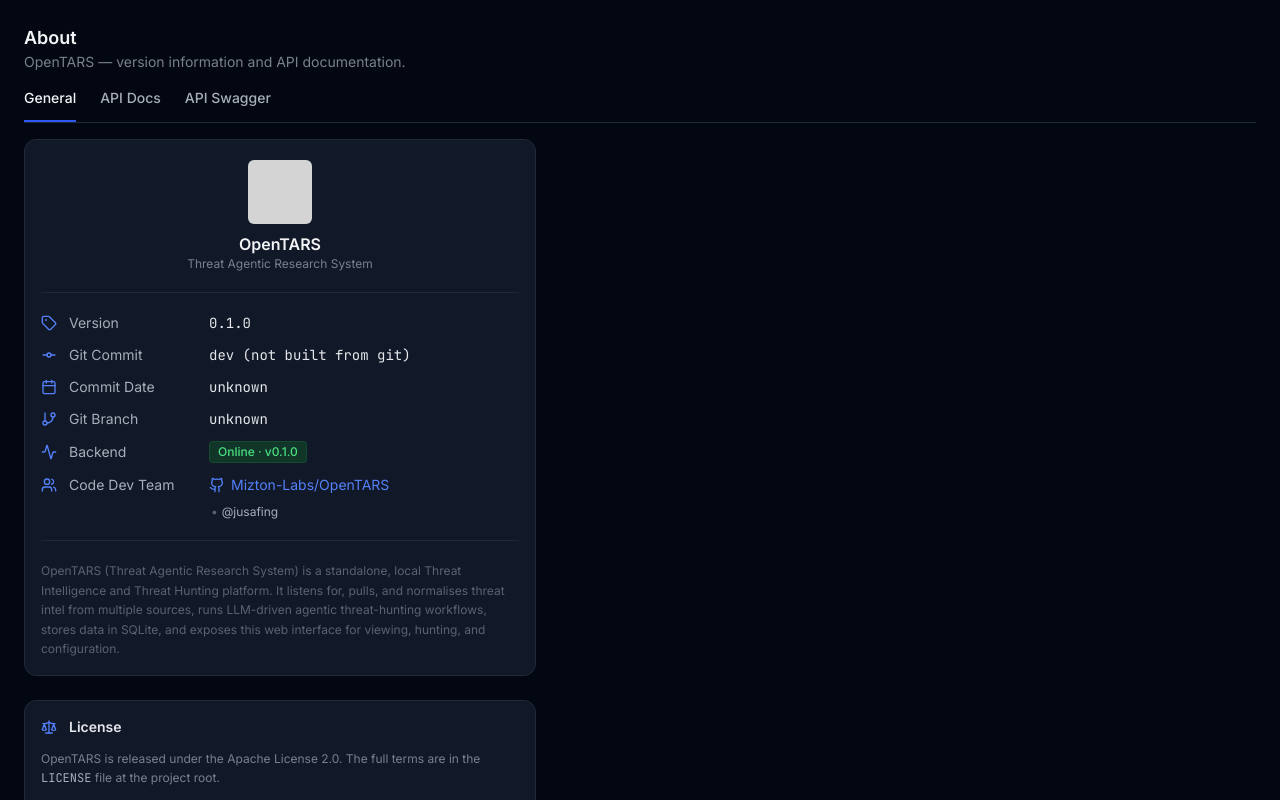
About page tabs (issue-local-030) › switches to the API Docs tab and hides General content
This screenshot has width=1280, height=800.
Click the button "API Docs" at (130, 105), box [100,88,161,122]
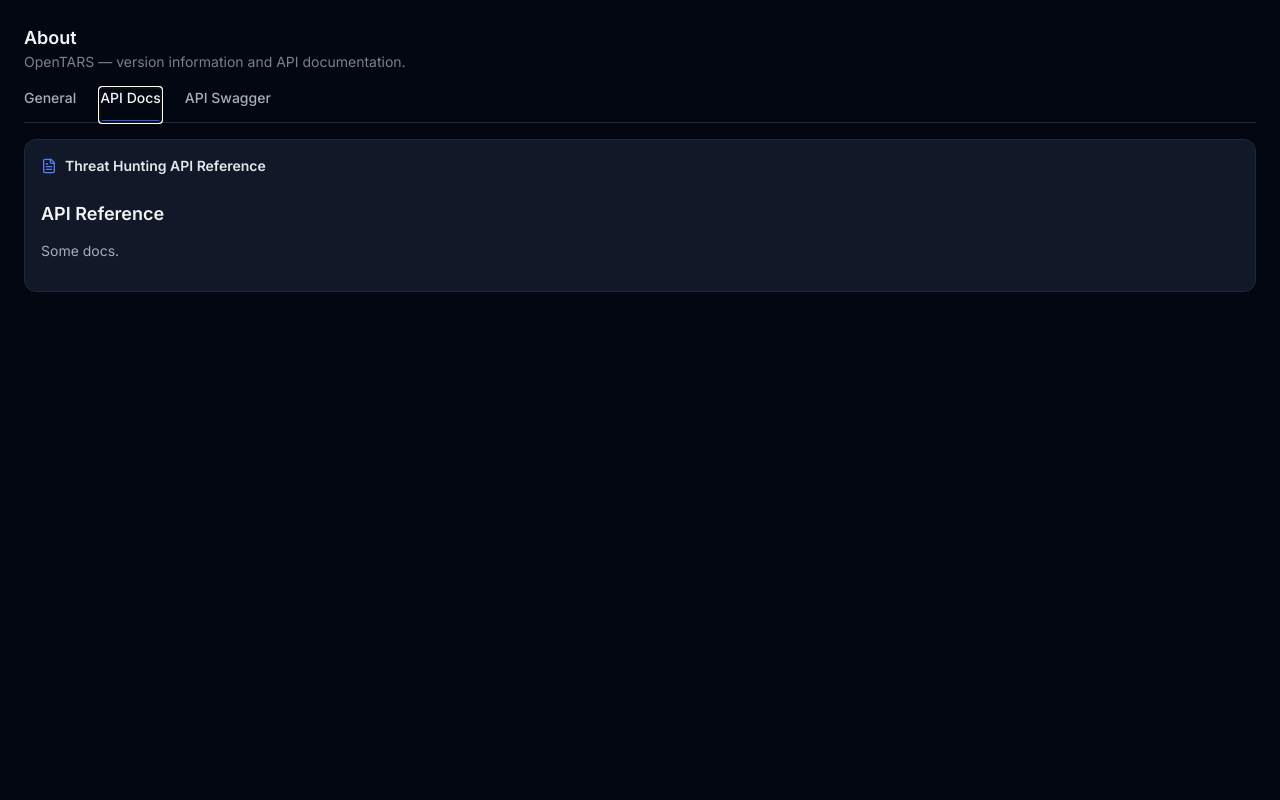
Check: the text "Code Dev Team" is gone
